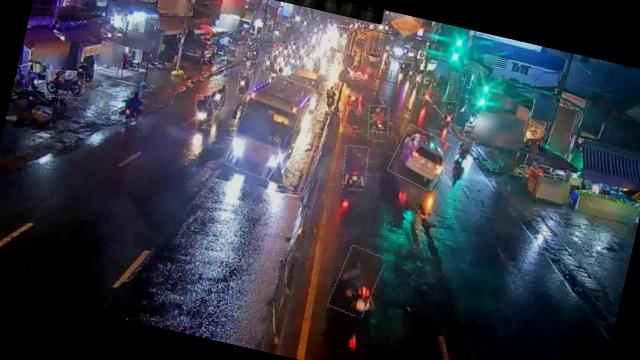Bike: (330, 244, 384, 320), (42, 66, 88, 102), (338, 144, 372, 192), (117, 85, 151, 126), (363, 103, 393, 144), (192, 94, 218, 130), (454, 132, 475, 168), (318, 80, 340, 112), (208, 82, 228, 112), (440, 101, 460, 130), (236, 70, 255, 98), (418, 84, 436, 108), (262, 54, 272, 70)
Bus: (226, 69, 323, 188)
Car: (388, 125, 452, 191)
